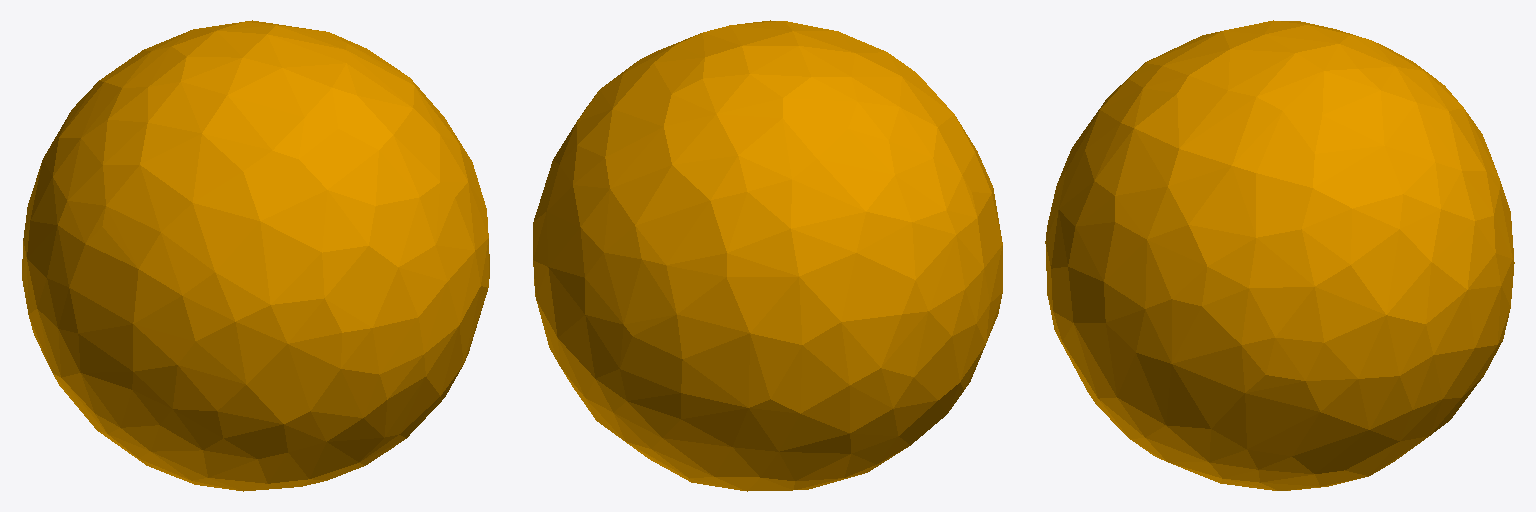
URDF robot description (056_tennis_ball):
<?xml version="1.0" encoding="UTF-8"?>
<robot name="056_tennis_ball">
	<link name="base">
		<collision>
			<geometry>
				<mesh filename="..\vhacd\056_tennis_ball_vhacd.obj" scale="1.0 1.0 1.0"/>
			</geometry>
			<origin xyz="0 0 0"/>
			<contact_coefficients mu="0.24" />
		</collision>
		<visual>
			<geometry>
				<mesh filename="..\vhacd\056_tennis_ball_vhacd.obj" scale="1.0 1.0 1.0"/>
			</geometry>
			<origin xyz="0 0 0"/>
		</visual>
		<inertial>
			<mass value="0.058"/>
			<inertia ixx="2.5858427934342315e-05" ixy="1.8978445897666706e-10" ixz="-5.62637110521303e-08" iyy="2.5846273533099003e-05" iyz="-2.6147520879761492e-08" izz="2.5918705020892146e-05" />
			<origin xyz="0.008233239742634915 -0.04419242635623044 0.032886620589233584"/>
		</inertial>
	</link>
</robot>

--- Render facts (derived) ---
The picture shows the robot from 3 angles, left to right: view 1: azimuth 30°, elevation 25°; view 2: azimuth 150°, elevation 25°; view 3: azimuth 270°, elevation 25°; orthographic projection.
Model 056_tennis_ball with 1 links and 0 joints (none), rooted at base, posed all joints at 0.
Visible links, largest first — view 1: base; view 2: base; view 3: base.
Boxes of the visible links, bbox=[...] form: base: bbox=[22, 20, 489, 491]; base: bbox=[533, 20, 1002, 491]; base: bbox=[1045, 20, 1514, 490].
Bounding box of the posed robot: 0.0673 × 0.0673 × 0.0668 m (x, y, z).
1 mesh visuals loaded from 1 distinct referenced files (1 OBJ).